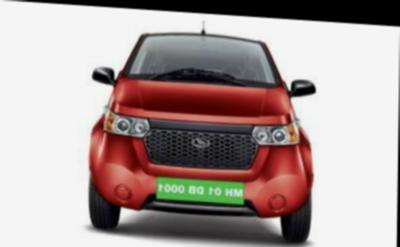License_Plate: (155, 179, 248, 199)
